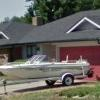Boat: (3, 49, 94, 93)
